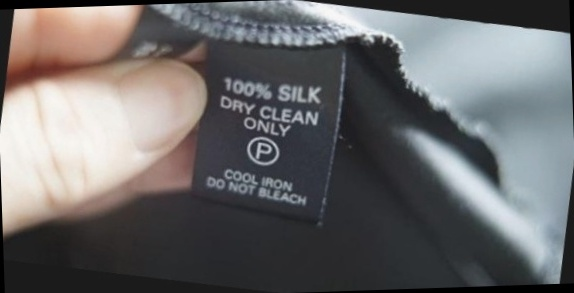dry_clean_any_solvent_except_trichloroethylene: (245, 132, 284, 168)
